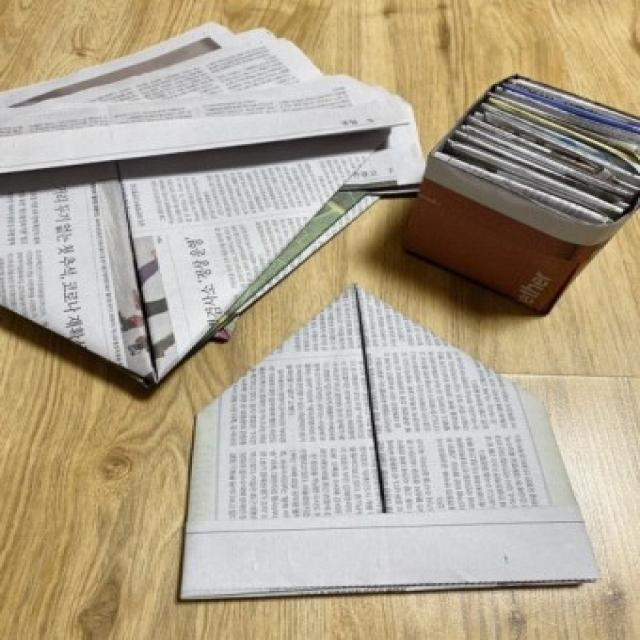Newspaper: (0, 21, 428, 389), (176, 289, 612, 606), (389, 74, 640, 329)
